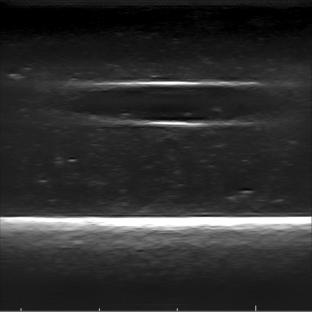vessel: (72, 80, 282, 129)
